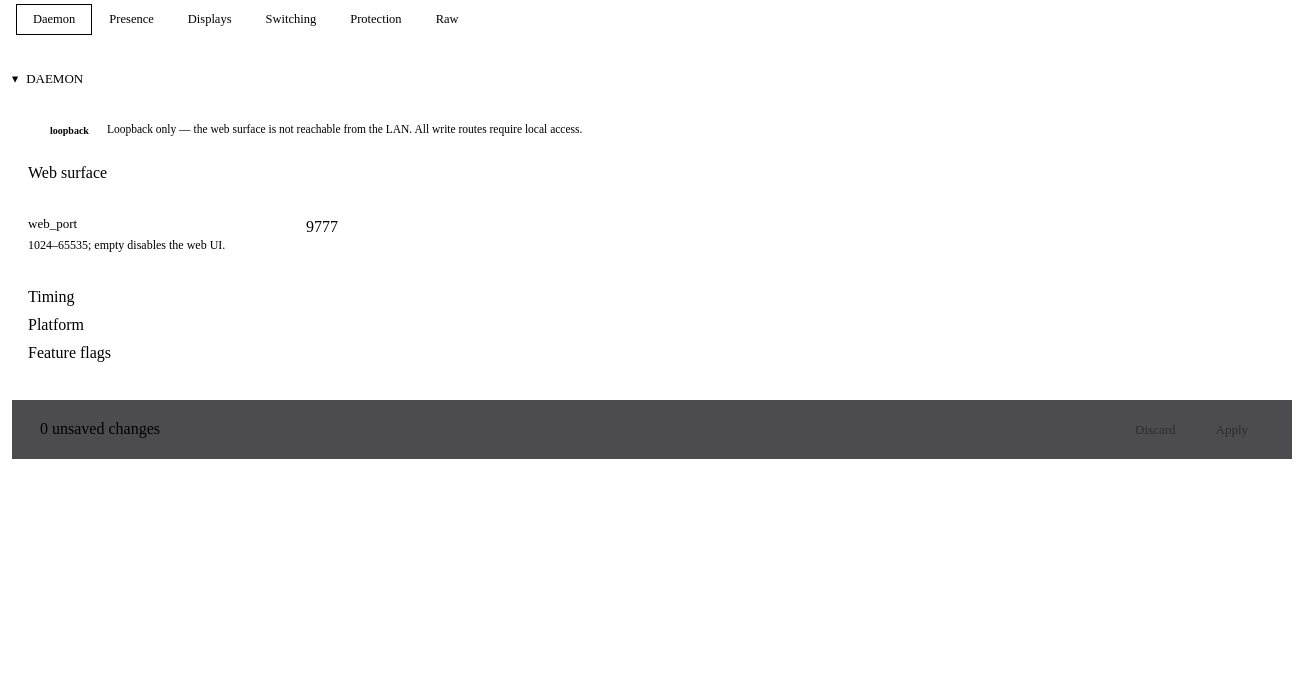
Test: Config › renders all validation errors when config has multiple errors
Click the button "Raw". click: (447, 20)
box: [419,4,476,35]
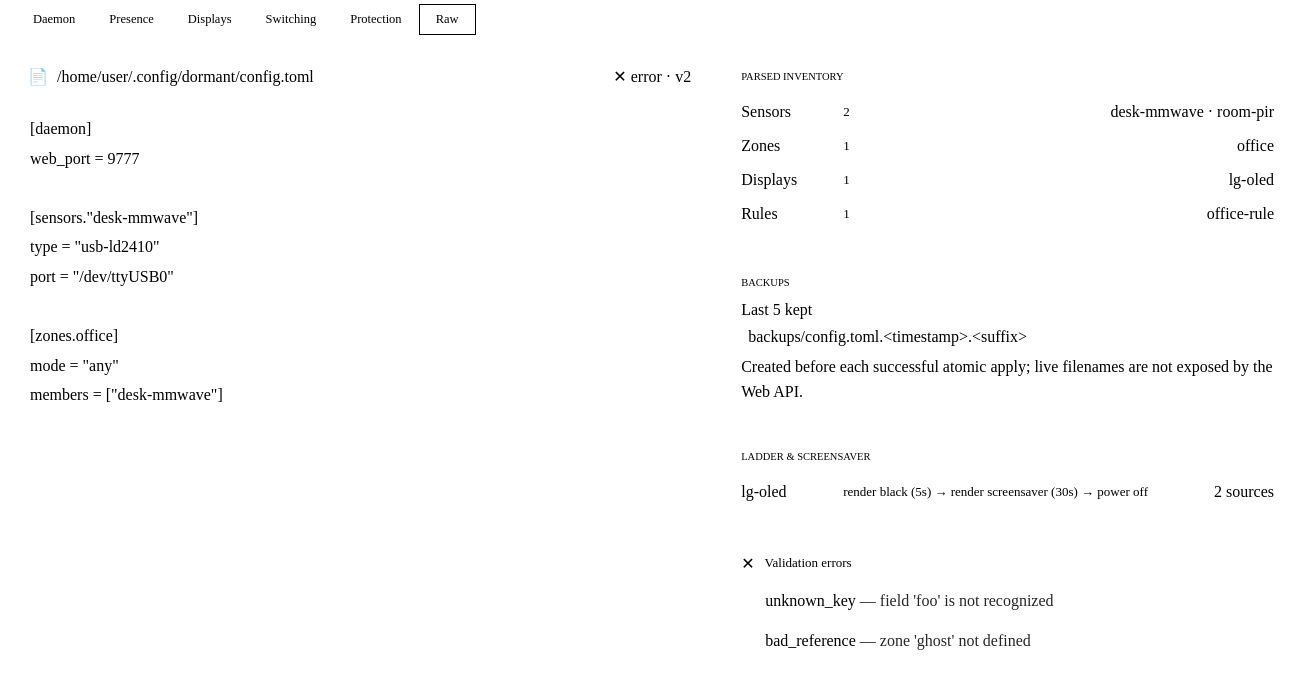
expect the text "unknown_key" is shown: met, box [765,592,856,609]
expect the text "— field 'foo' is not recognized" is shown: met, box [856,592,1054,609]
expect the text "bad_reference" is shown: met, box [765,632,856,649]
